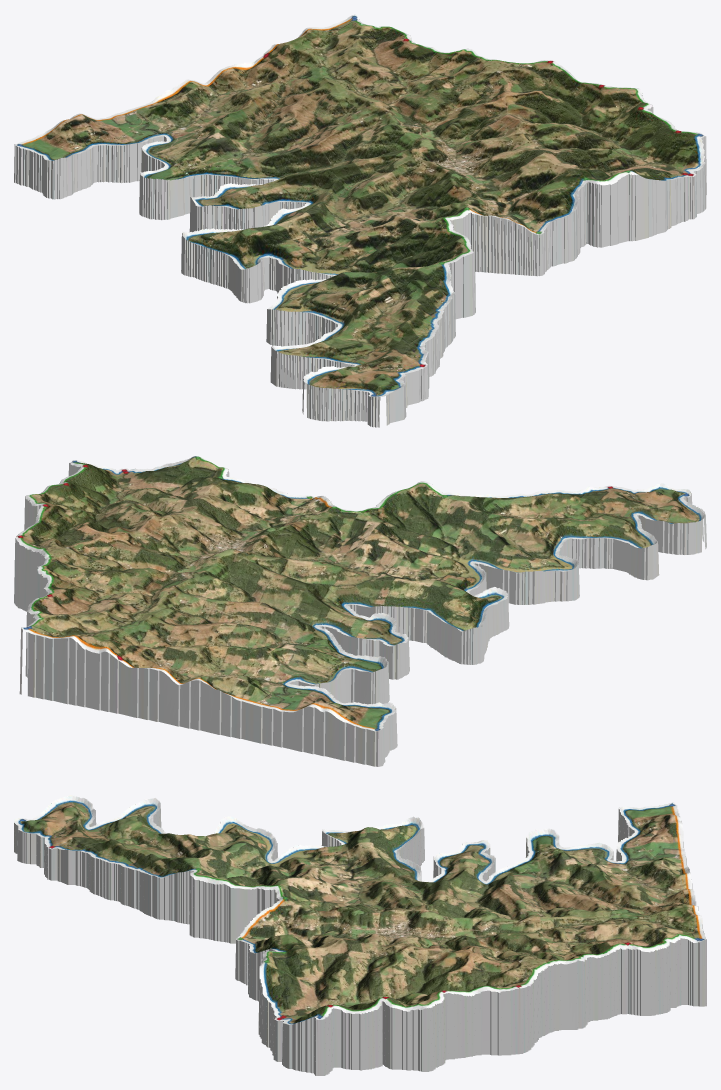
The picture shows the model from 3 angles, top to bottom: view 1: azimuth 30°, elevation 25°; view 2: azimuth 150°, elevation 25°; view 3: azimuth 270°, elevation 25°; orthographic projection. The views are drawn at different scales.
Bounding box in the file's own units: 0.9999 × 0.1279 × 1.18.
1 material, 1 textured.
